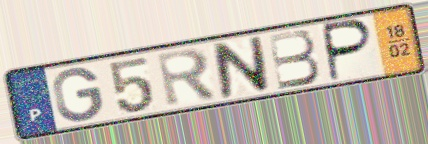5: (105, 55, 157, 114)
B: (265, 28, 324, 92)
G: (50, 66, 106, 124)
N: (209, 34, 272, 101)
P: (322, 17, 376, 84)
R: (153, 46, 221, 110)
